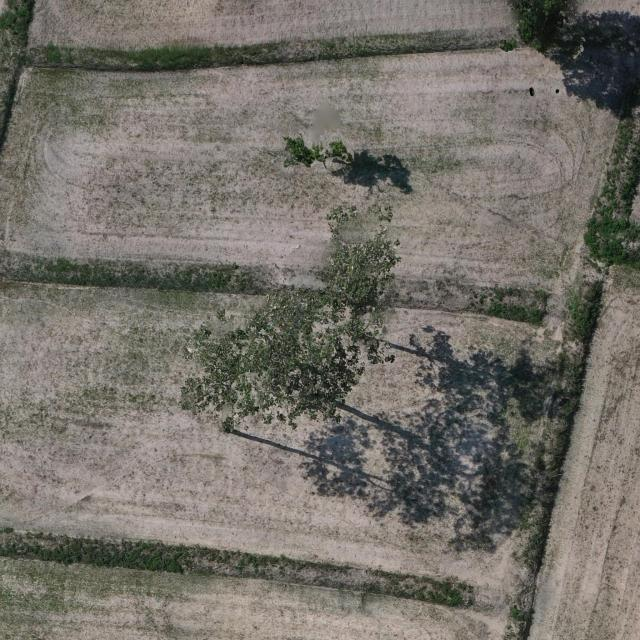tree: (178, 284, 366, 432), (313, 201, 402, 365), (582, 214, 640, 276), (282, 132, 354, 171)
